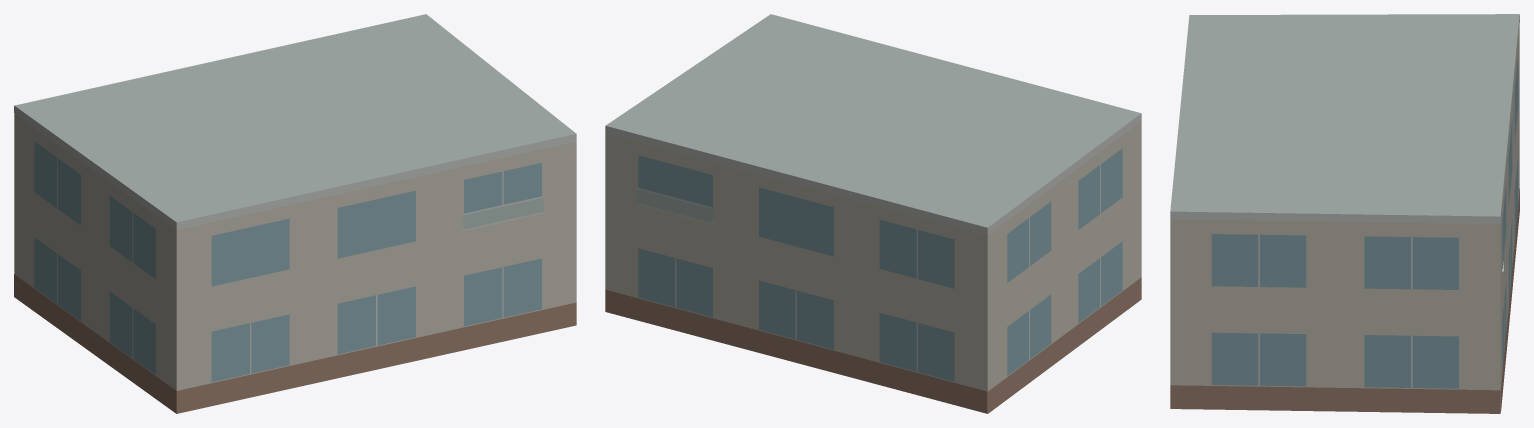
The model's file is survey-upis-32916010.glb.
The picture shows the model from 3 angles, left to right: view 1: azimuth 30°, elevation 25°; view 2: azimuth 150°, elevation 25°; view 3: azimuth 270°, elevation 25°; orthographic projection. The views are drawn at different scales.
Visible parts, largest first — view 1: survey-upis-32916010.tmp; view 2: survey-upis-32916010.tmp; view 3: survey-upis-32916010.tmp.
Part boxes in pixels (x1=…): survey-upis-32916010.tmp: x1=14, y1=14, x2=576, y2=413; survey-upis-32916010.tmp: x1=605, y1=14, x2=1141, y2=413; survey-upis-32916010.tmp: x1=1170, y1=14, x2=1519, y2=413.
Bounding box in the file's own units: 13.44 × 6.1 × 9.8.
